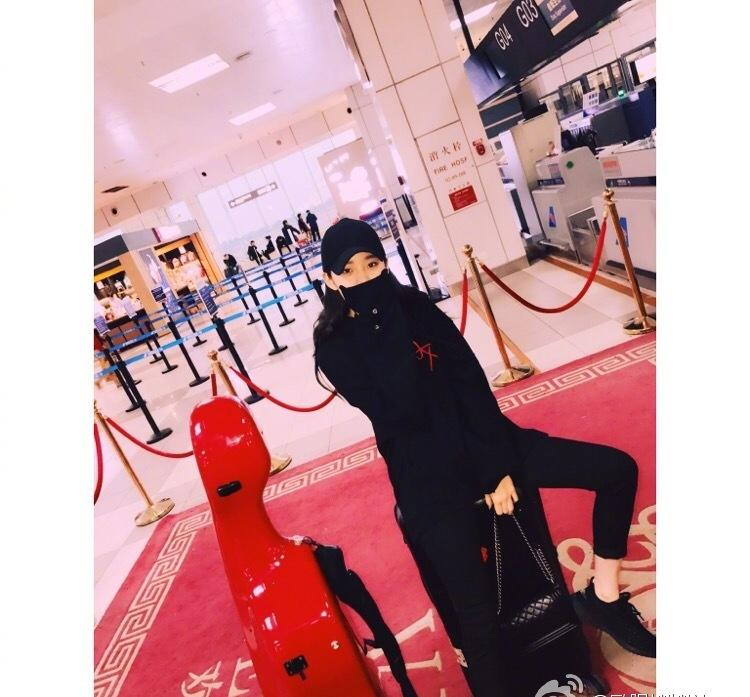face_mask: (333, 248, 387, 308)
